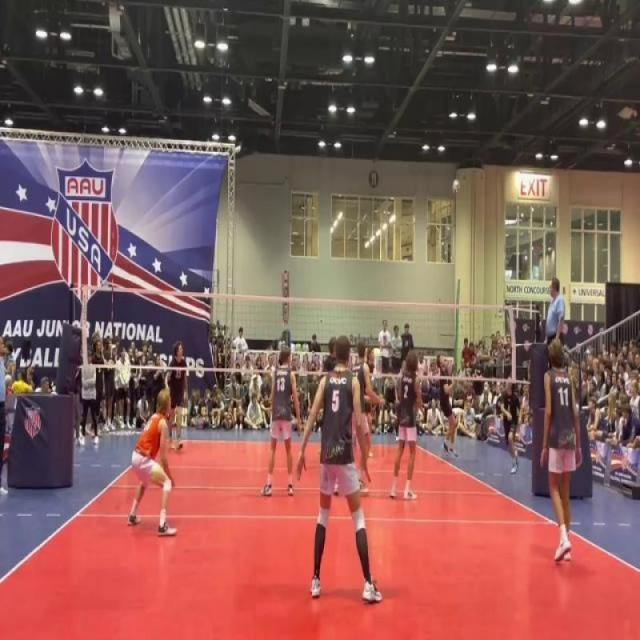volleyball: (452, 180, 460, 196)
